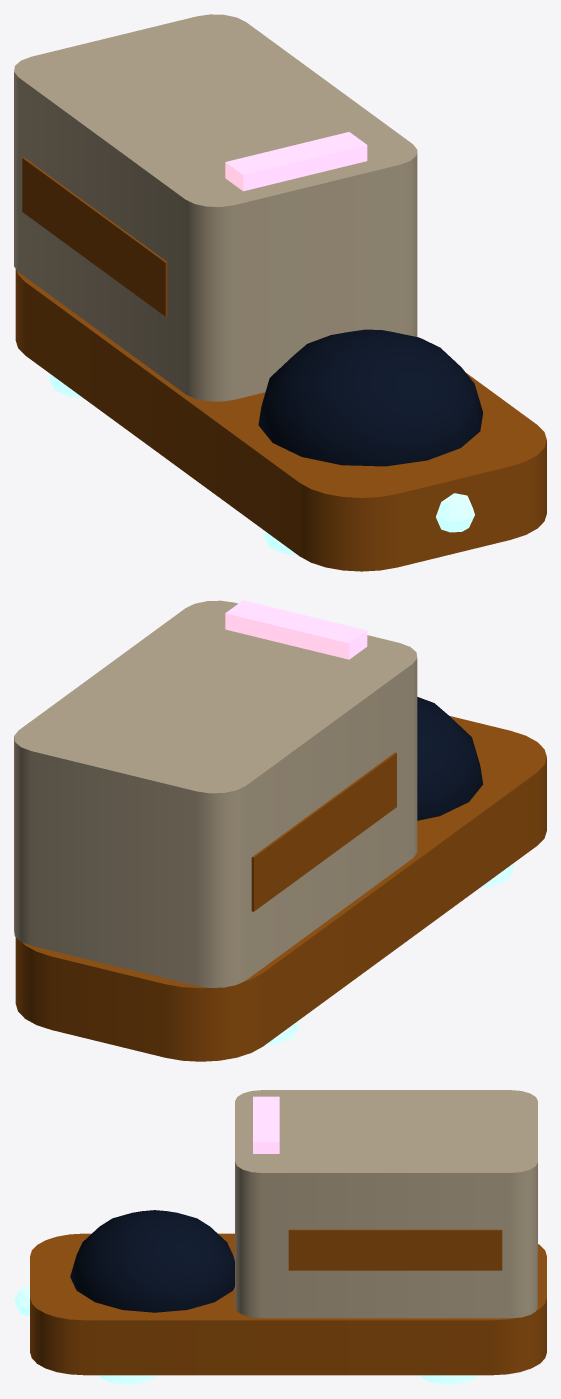
Rendered from hover_van.glb.
The picture shows the model from 3 angles, top to bottom: view 1: azimuth 30°, elevation 25°; view 2: azimuth 150°, elevation 25°; view 3: azimuth 270°, elevation 25°; orthographic projection. The views are drawn at different scales.
Parts seen in each view (by area): view 1: hover_van; view 2: hover_van; view 3: hover_van.
Boxes of the visible parts, bbox=[...] form: hover_van: bbox=[14, 14, 546, 571]; hover_van: bbox=[14, 600, 546, 1061]; hover_van: bbox=[14, 1090, 546, 1384].
Size of the model in its own units: 2.3 by 2.75 by 5.98.
